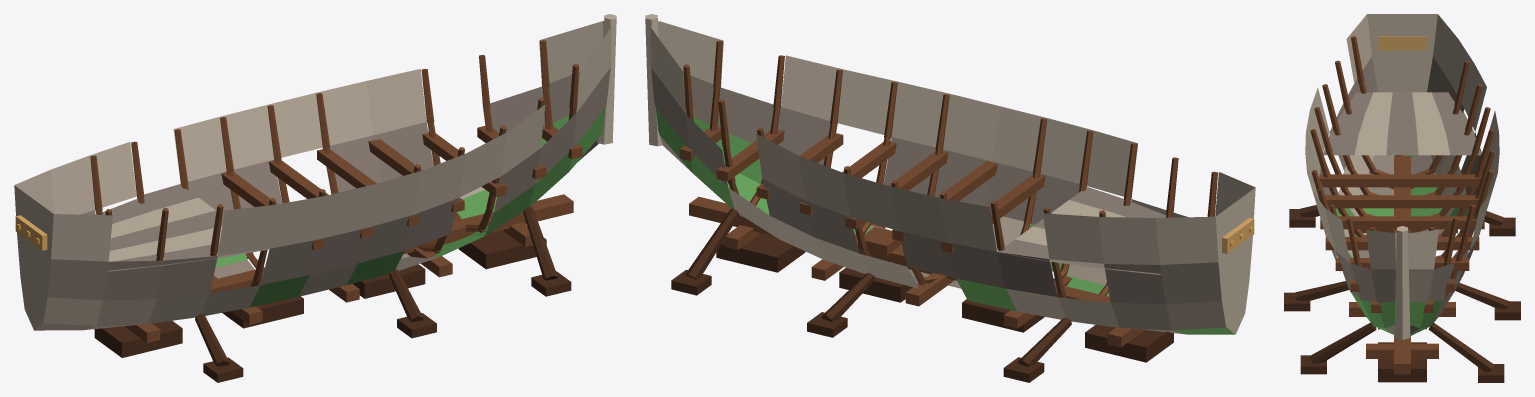
The model's file is ship_hull_wrecked.glb.
The picture shows the model from 3 angles, left to right: view 1: azimuth 30°, elevation 25°; view 2: azimuth 150°, elevation 25°; view 3: azimuth 270°, elevation 25°; orthographic projection. The views are drawn at different scales.
Visible parts, largest first — view 1: Hull_Strake_4_Star, Hull_Strake_4_Port, Hull_Strake_3_Port, Hull_Strake_2_Port, Hull_Strake_3_Star, Transom_Panel, Keel_Keelson, Cradle_Block_1, Cradle_Block_4, Deck_Strip_3, Deck_Strip_4, Deck_Strip_2 (+21 smaller); view 2: Hull_Strake_4_Port, Hull_Strake_4_Star, Hull_Strake_3_Star, Hull_Strake_2_Star, Hull_Strake_3_Port, Transom_Panel, Hull_Strake_2_Port, Cradle_Block_4, Keel_Keelson, Cradle_Block_1, Deck_Strip_1, Hull_Strake_1_Port (+22 smaller); view 3: Hull_Strake_4_Star, Transom_Panel, Hull_Strake_4_Port, Hull_Strake_3_Port, Hull_Strake_3_Star, Deck_Beam_1, Deck_Beam_2, Deck_Strip_2, Deck_Strip_4, Deck_Strip_3, Deck_Beam_3, Stem_Post (+40 smaller).
Boxes of the visible parts, box(x1,y1,x2,y2) form: Hull_Strake_4_Star: box(14, 21, 603, 214); Hull_Strake_4_Port: box(51, 27, 611, 261); Hull_Strake_3_Port: box(47, 67, 610, 300); Hull_Strake_2_Port: box(43, 107, 605, 326); Hull_Strake_3_Star: box(81, 71, 579, 215); Transom_Panel: box(14, 185, 53, 330); Keel_Keelson: box(210, 194, 573, 293); Cradle_Block_1: box(94, 320, 182, 357); Cradle_Block_4: box(458, 230, 546, 269); Deck_Strip_3: box(109, 210, 223, 250); Deck_Strip_4: box(111, 197, 215, 238); Deck_Strip_2: box(108, 226, 221, 261); Hull_Strake_4_Port: box(659, 21, 1255, 216); Hull_Strake_4_Star: box(650, 27, 1218, 264); Hull_Strake_3_Star: box(651, 68, 1221, 304); Hull_Strake_2_Star: box(655, 107, 1225, 330); Hull_Strake_3_Port: box(682, 72, 1188, 224); Transom_Panel: box(1215, 187, 1255, 334); Hull_Strake_2_Port: box(685, 112, 1106, 285); Cradle_Block_4: box(716, 233, 805, 272); Keel_Keelson: box(689, 196, 1169, 332); Cradle_Block_1: box(1085, 325, 1173, 362); Deck_Strip_1: box(1069, 187, 1166, 217); Hull_Strake_1_Port: box(727, 173, 1109, 296); Hull_Strake_4_Star: box(1409, 14, 1499, 269); Transom_Panel: box(1367, 14, 1437, 92); Hull_Strake_4_Port: box(1305, 14, 1395, 269); Hull_Strake_3_Port: box(1319, 56, 1395, 303); Hull_Strake_3_Star: box(1409, 56, 1484, 303); Deck_Beam_1: box(1319, 174, 1482, 187); Deck_Beam_2: box(1319, 195, 1485, 208); Deck_Strip_2: box(1354, 92, 1392, 155); Deck_Strip_4: box(1412, 92, 1450, 155); Deck_Strip_3: box(1386, 92, 1418, 155); Deck_Beam_3: box(1320, 216, 1484, 229); Stem_Post: box(1394, 226, 1410, 339).
Size of the model in its own units: 10.68 by 3.63 by 4.14.
